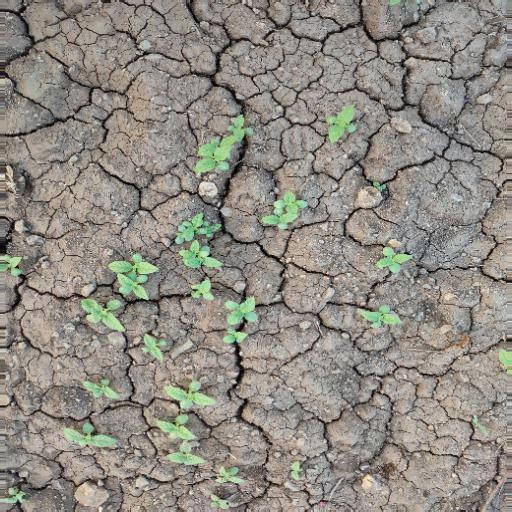crop: (78, 245, 158, 335), (151, 377, 219, 475), (192, 107, 255, 173), (174, 235, 214, 302), (55, 416, 119, 456), (260, 186, 309, 232), (219, 294, 259, 348), (324, 98, 359, 143), (376, 239, 412, 279), (80, 370, 119, 404), (359, 301, 403, 331)
